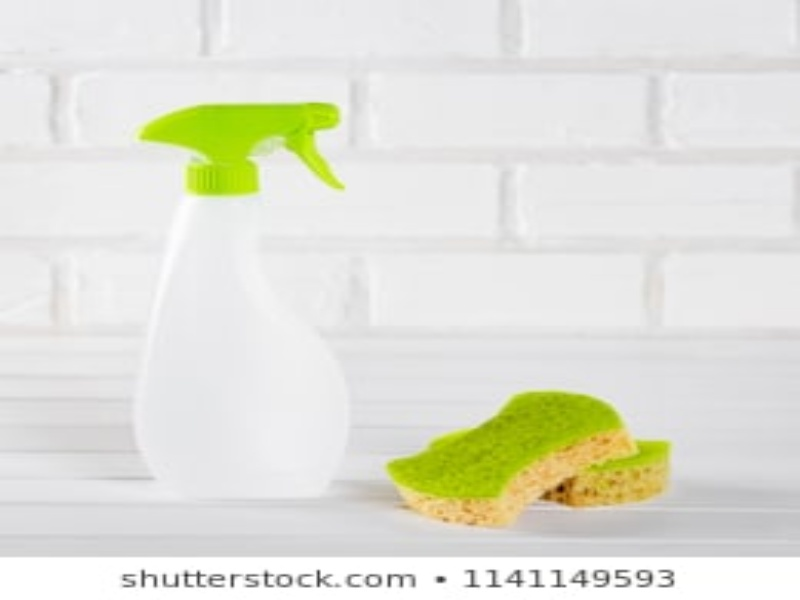detergent-bottle: (117, 99, 370, 506)
